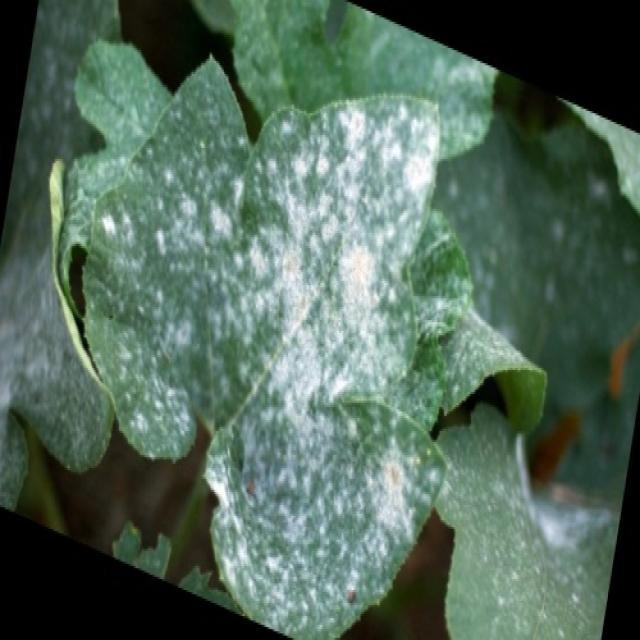Powdery Mildew: (106, 42, 430, 620)
